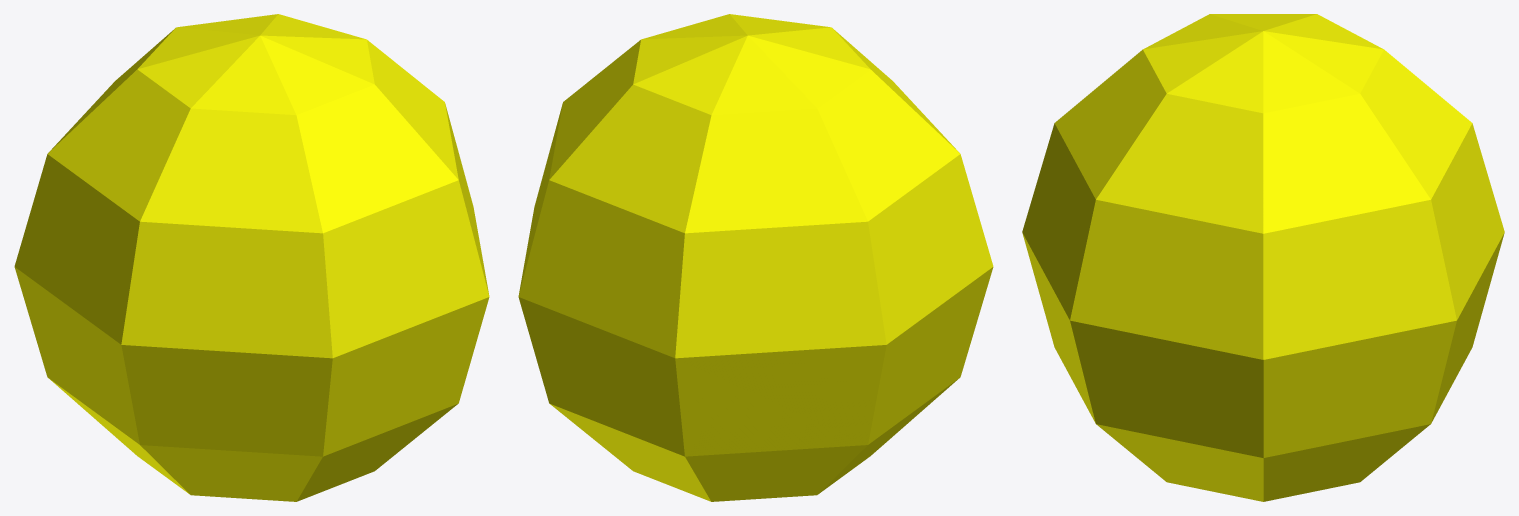
The model's file is _arrow_c_18.glb.
The picture shows the model from 3 angles, left to right: view 1: azimuth 30°, elevation 25°; view 2: azimuth 150°, elevation 25°; view 3: azimuth 270°, elevation 25°; orthographic projection.
Parts seen in each view (by area): view 1: arrow_c_18; view 2: arrow_c_18; view 3: arrow_c_18.
Boxes of the visible parts, box(x1,y1,x2,y2) form: arrow_c_18: box(14, 14, 489, 501); arrow_c_18: box(518, 14, 993, 501); arrow_c_18: box(1022, 14, 1504, 501).
Size of the model in its own units: 0.0494 by 0.052 by 0.0507.
1 material, 1 textured.
